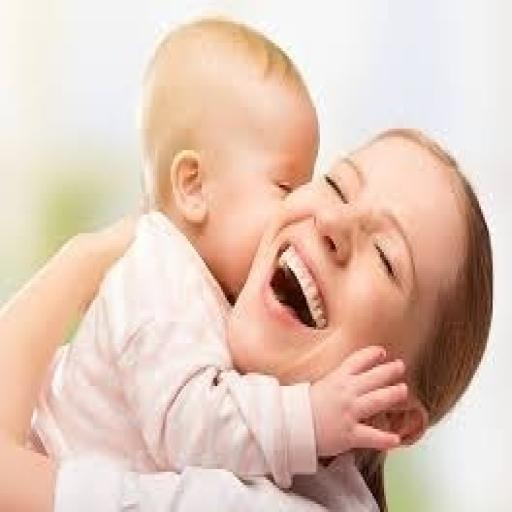laughing: (0, 10, 498, 509)
